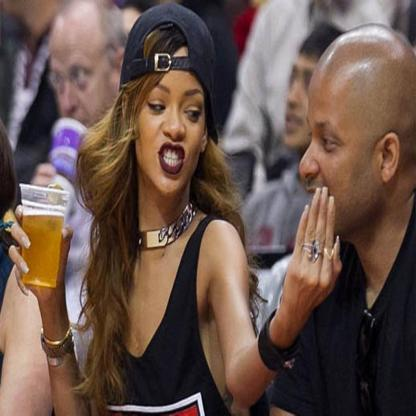face: (300, 39, 380, 237), (136, 47, 207, 195), (49, 27, 115, 154), (286, 31, 335, 147)
